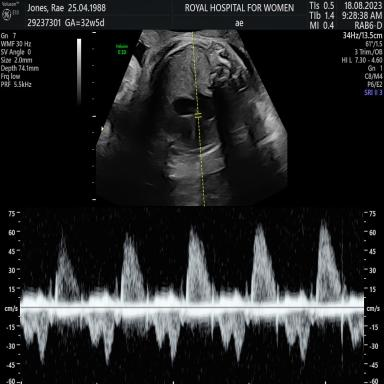Ultrasound-Waves: (25, 207, 362, 384)
